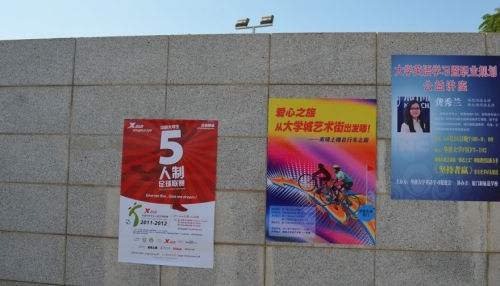bill: (266, 98, 378, 246), (391, 55, 499, 200), (117, 119, 217, 267)
